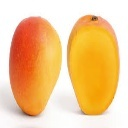mango: (66, 11, 122, 116), (9, 16, 64, 117)
